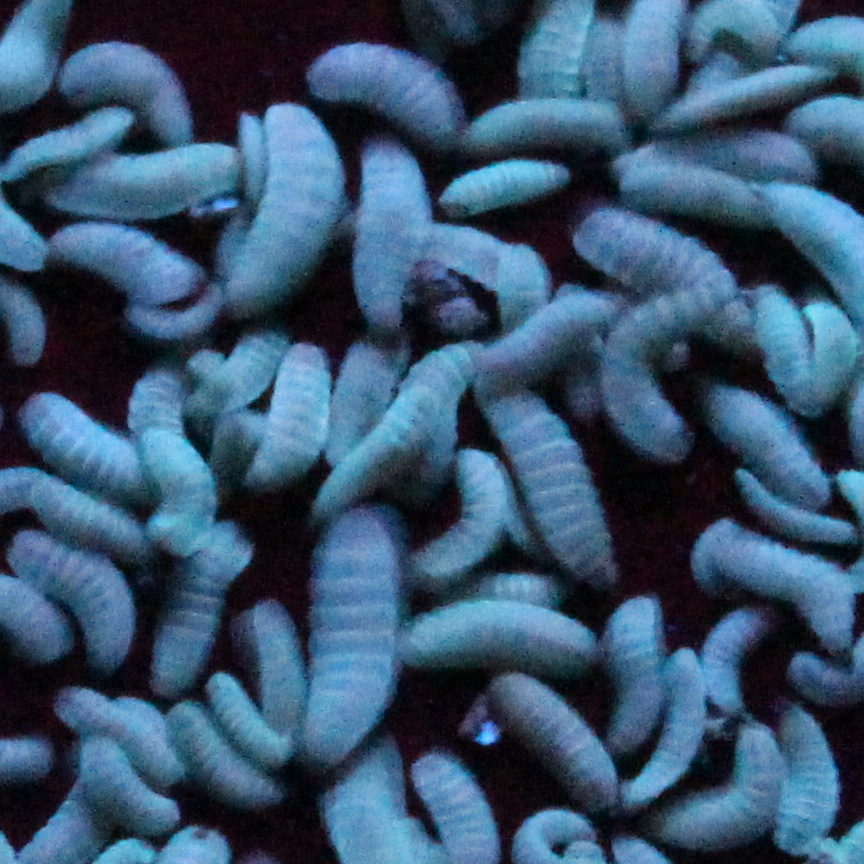larve: (481, 391, 617, 587), (600, 283, 736, 459), (227, 105, 331, 321), (310, 514, 396, 764), (705, 535, 863, 666), (8, 536, 146, 672), (698, 383, 838, 512), (315, 38, 465, 145), (469, 291, 621, 395), (498, 672, 617, 801), (244, 341, 332, 502), (665, 720, 777, 845), (398, 600, 600, 669), (15, 401, 152, 501), (63, 48, 203, 145), (354, 155, 429, 328), (412, 455, 508, 576), (48, 693, 179, 780), (134, 428, 222, 554), (55, 226, 196, 300), (172, 705, 275, 805), (751, 279, 829, 410), (774, 704, 843, 850), (77, 738, 179, 835), (167, 535, 235, 680), (467, 95, 621, 153), (21, 478, 140, 549), (606, 591, 658, 751), (444, 160, 574, 219), (212, 676, 291, 759)
